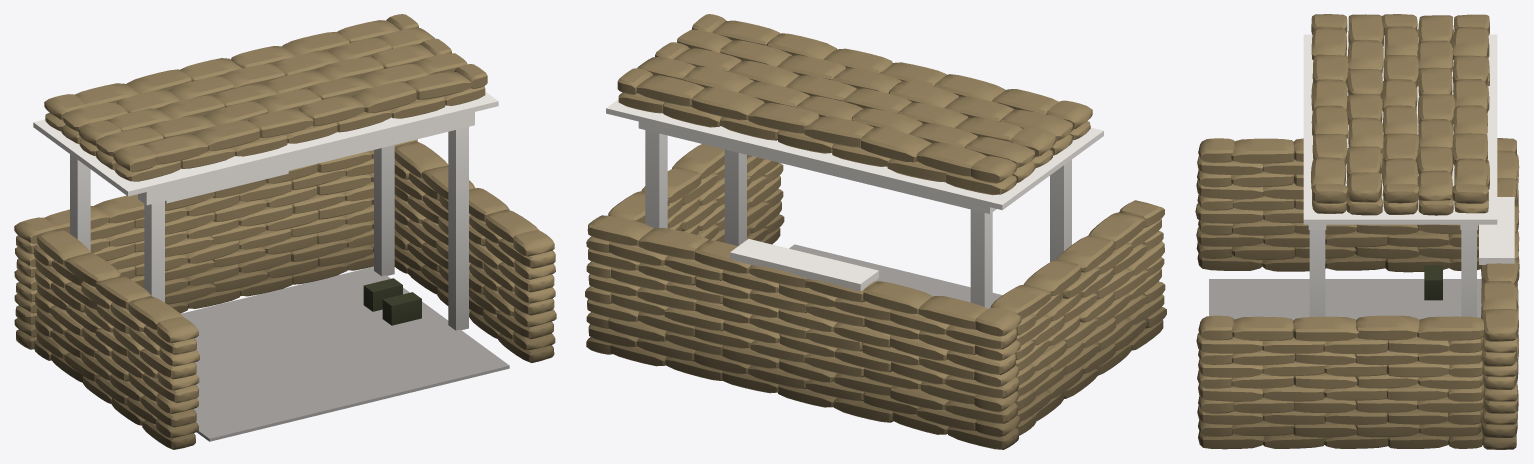
The model's file is mg_emplacement.glb.
3 views of the same model, side by side, from view 1: azimuth 30°, elevation 25°; view 2: azimuth 150°, elevation 25°; view 3: azimuth 270°, elevation 25° (orthographic). The views are drawn at different scales.
Parts seen in each view (by area): view 1: mg_emplacement_LOD0; view 2: mg_emplacement_LOD0; view 3: mg_emplacement_LOD0.
Part boxes in pixels (bbox=[...]): mg_emplacement_LOD0: bbox=[14, 14, 556, 449]; mg_emplacement_LOD0: bbox=[585, 14, 1166, 449]; mg_emplacement_LOD0: bbox=[1195, 14, 1519, 449].
Size of what is drawn, in the model's own units: 4.22 by 2.55 by 2.93.
